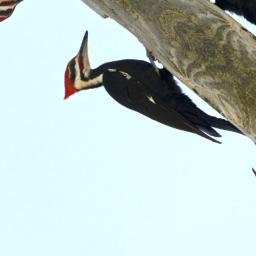Woodpecker: (41, 11, 238, 198)
